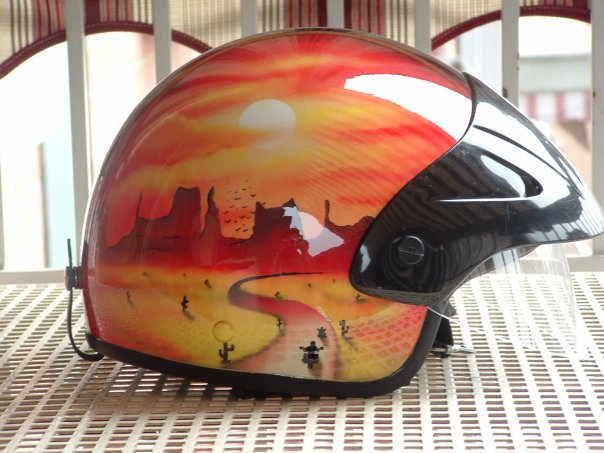helmet: (59, 4, 454, 394)
